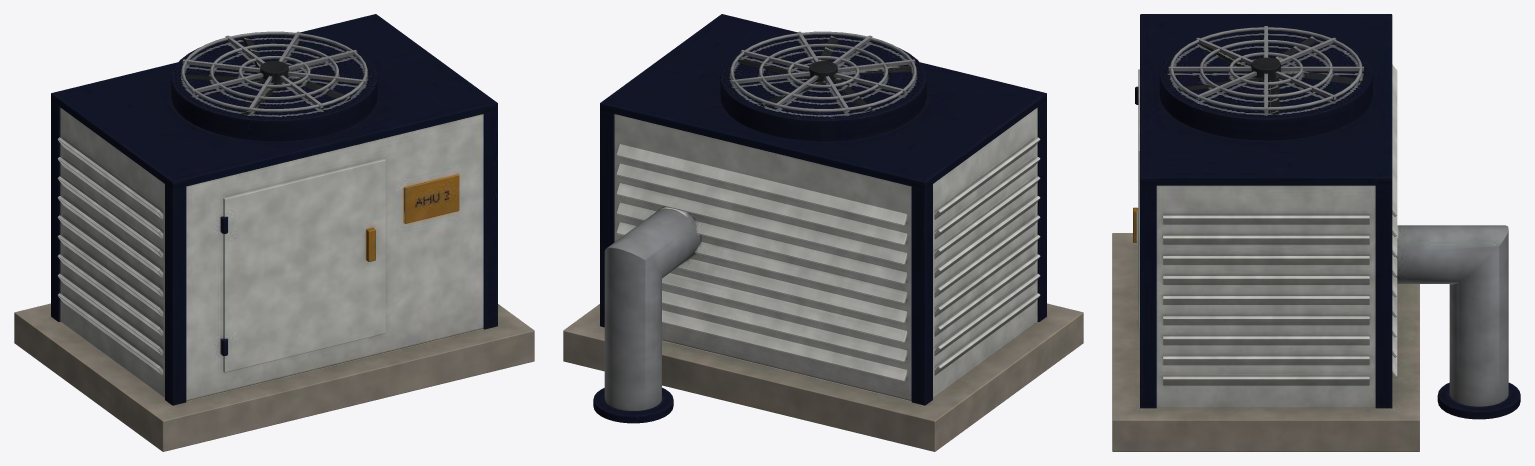
Rendered from charter_roof_unit.glb.
3 renders of one model, left to right at view 1: azimuth 30°, elevation 25°; view 2: azimuth 150°, elevation 25°; view 3: azimuth 270°, elevation 25°, orthographic. The views are drawn at different scales.
Visible parts, largest first — view 1: charter_roof_unit; view 2: charter_roof_unit; view 3: charter_roof_unit.
Part boxes in pixels (<box>): charter_roof_unit: <box>14,14,534,451</box>; charter_roof_unit: <box>563,14,1083,451</box>; charter_roof_unit: <box>1112,14,1520,451</box>.
Size of the model in its own units: 1.5 by 1.1 by 1.38.
1 material, 1 textured.
